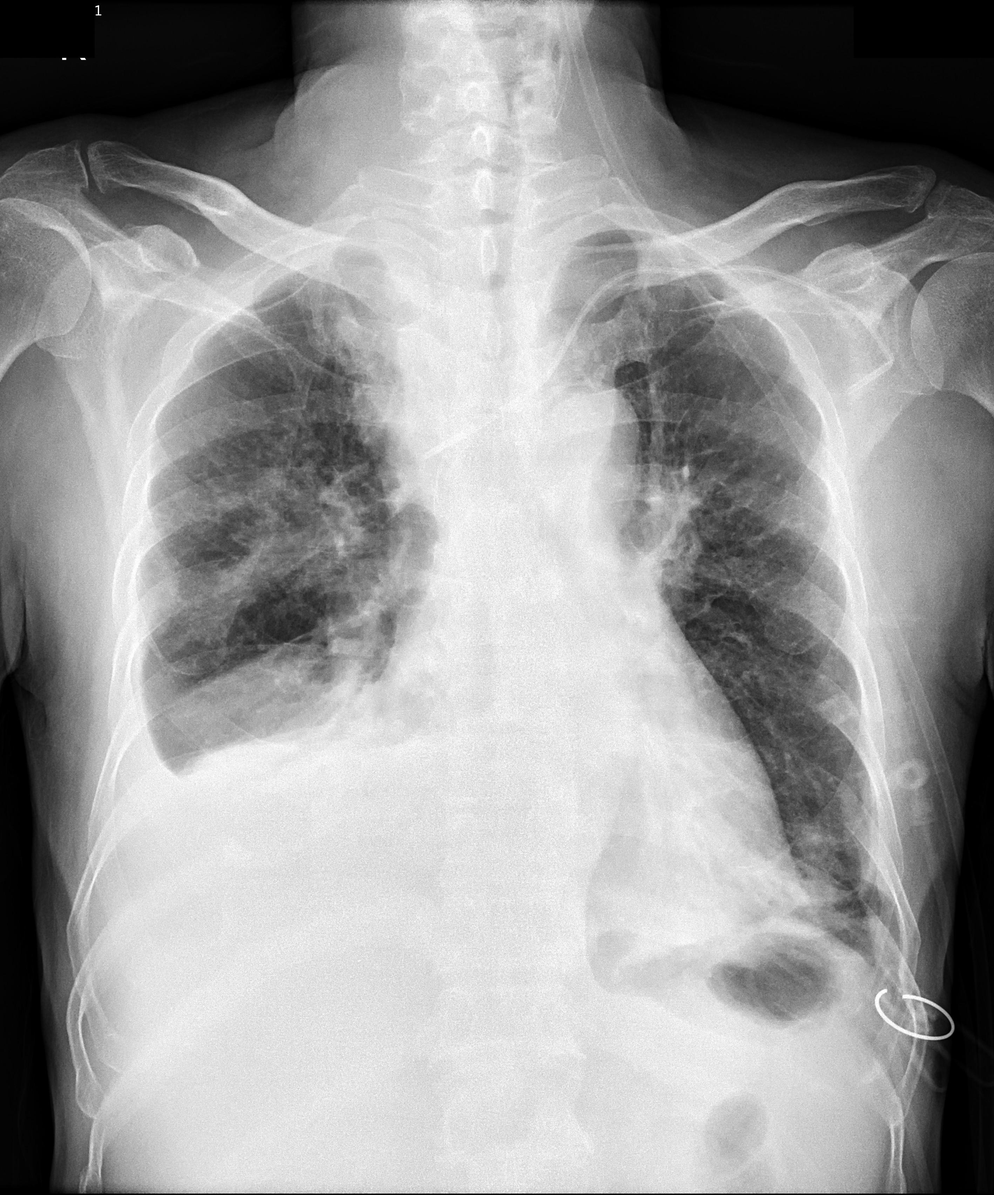Pleural thickening: (99, 504, 170, 800)
Pulmonary fibrosis: (748, 841, 878, 926)
